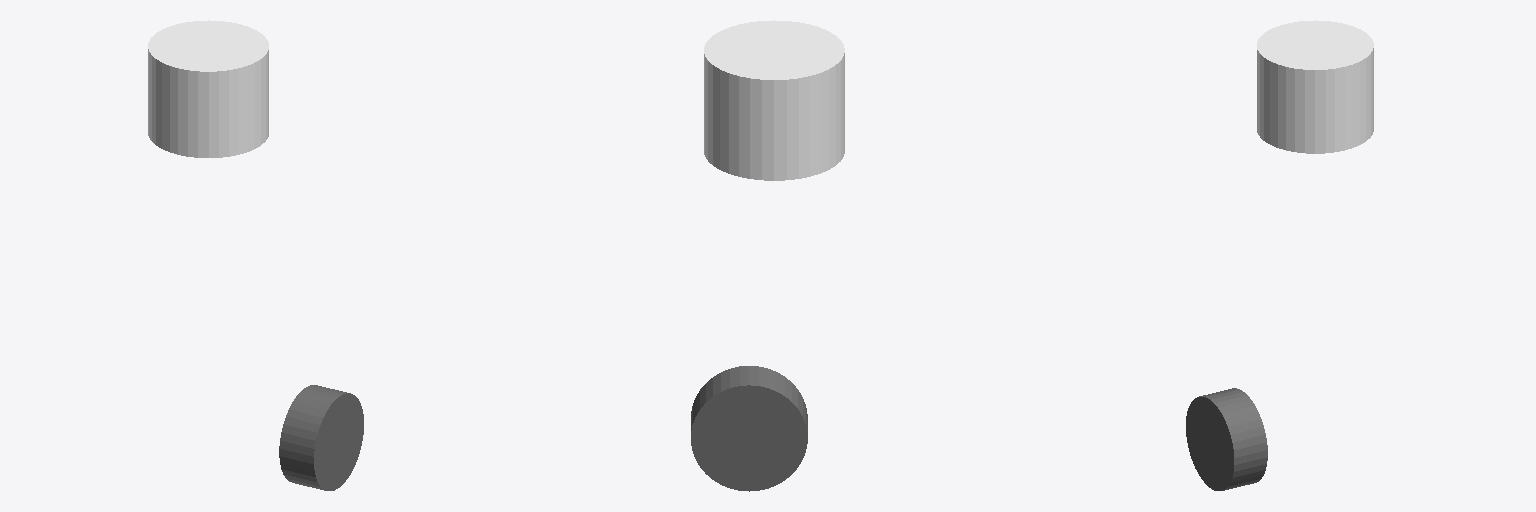
The robot description file, URDF, robot "rover_urdf":
<?xml version="1.0" encoding="utf-8"?>
<!-- This URDF was automatically created by SolidWorks to URDF Exporter! Originally created by [author] ([email redacted]) 
     Commit Version: 1.6.0-4-g7f85cfe  Build Version: 1.6.7995.38578
     For more information, please see http://wiki.ros.org/sw_urdf_exporter -->
<robot
  name="rover_urdf">
  <link
    name="base_link">
    <inertial>
      <origin
        xyz="6.6088E-18 1.9889E-17 0.064591"
        rpy="0 0 0" />
      <mass
        value="1.6" />
      <inertia
        ixx="0.0020085"
        ixy="5.9835E-41"
        ixz="-8.7073E-20"
        iyy="0.0020085"
        iyz="-3.4722E-19"
        izz="0.00086008" />
    </inertial>
    <visual>
      <origin
        xyz="0 0 0"
        rpy="0 0 0" />
      <geometry>
        <mesh
          filename="package://rover_urdf/meshes/base_link.STL" />
      </geometry>
      <material
        name="">
        <color
          rgba="0.99216 0.92941 0.65882 1" />
      </material>
    </visual>
    <collision>
      <origin
        xyz="0 0 0"
        rpy="0 0 0" />
      <geometry>
        <mesh
          filename="package://rover_urdf/meshes/base_link.STL" />
      </geometry>
    </collision>
  </link>
  <link
    name="wheel1_link">
    <inertial>
      <origin
        xyz="0 -0.011525123 -2.74070092627913E-18"
        rpy="0 0 0" />
      <mass
        value="0.0609005806210085" />
      <inertia
        ixx="1.5500790524584E-05"
        ixy="-1.80668468323061E-36"
        ixz="0"
        iyy="2.56086941511341E-05"
        iyz="2.40368287887478E-21"
        izz="1.5500790524584E-05" />
    </inertial>
    <visual>
      <origin
        xyz="0 0 0"
        rpy="0 0 0" />
      <geometry>
        <mesh
          filename="package://rover_urdf/meshes/wheel1_link.STL" />
      </geometry>
      <material
        name="">
        <color
          rgba="0.501960784313725 0.501960784313725 0.501960784313725 1" />
      </material>
    </visual>
    <collision>
      <origin
        xyz="0 0 0"
        rpy="0 0 0" />
      <geometry>
        <mesh
          filename="package://rover_urdf/meshes/wheel1_link.STL" />
      </geometry>
    </collision>
  </link>
  <joint
    name="wheel1_joint"
    type="continuous">
    <origin
      xyz="0.045784 0.079299 0"
      rpy="0 0 2.618" />
    <parent
      link="base_link" />
    <child
      link="wheel1_link" />
    <axis
      xyz="0 1 0" />
    <limit
      effort="0"
      velocity="8.59" />
  </joint>
  <link
    name="wheel2_link">
    <inertial>
      <origin
        xyz="2.25285332678531E-20 -0.011525123 -6.50854012959871E-18"
        rpy="0 0 0" />
      <mass
        value="0.0609005806210085" />
      <inertia
        ixx="1.5500790524584E-05"
        ixy="-1.97582484038569E-23"
        ixz="-1.50463276905253E-36"
        iyy="2.56086941511341E-05"
        iyz="-1.49958921401236E-23"
        izz="1.5500790524584E-05" />
    </inertial>
    <visual>
      <origin
        xyz="0 0 0"
        rpy="0 0 0" />
      <geometry>
        <mesh
          filename="package://rover_urdf/meshes/wheel2_link.STL" />
      </geometry>
      <material
        name="">
        <color
          rgba="0.501960784313725 0.501960784313725 0.501960784313725 1" />
      </material>
    </visual>
    <collision>
      <origin
        xyz="0 0 0"
        rpy="0 0 0" />
      <geometry>
        <mesh
          filename="package://rover_urdf/meshes/wheel2_link.STL" />
      </geometry>
    </collision>
  </link>
  <joint
    name="wheel2_joint"
    type="continuous">
    <origin
      xyz="0.0457835000000003 -0.0792993481483295 0"
      rpy="0 0 0.523598775598303" />
    <parent
      link="base_link" />
    <child
      link="wheel2_link" />
    <axis
      xyz="0 1 0" />
    <limit
      effort="0"
      velocity="8.59" />
  </joint>
  <link
    name="wheel3_link">
    <inertial>
      <origin
        xyz="6.93889390390723E-18 -0.011525123 0"
        rpy="0 0 0" />
      <mass
        value="0.0609005806210086" />
      <inertia
        ixx="1.5500790524584E-05"
        ixy="8.470329472543E-22"
        ixz="-2.25694915357879E-36"
        iyy="2.56086941511341E-05"
        iyz="5.64237288394698E-37"
        izz="1.5500790524584E-05" />
    </inertial>
    <visual>
      <origin
        xyz="0 0 0"
        rpy="0 0 0" />
      <geometry>
        <mesh
          filename="package://rover_urdf/meshes/wheel3_link.STL" />
      </geometry>
      <material
        name="">
        <color
          rgba="0.501960784313725 0.501960784313725 0.501960784313725 1" />
      </material>
    </visual>
    <collision>
      <origin
        xyz="0 0 0"
        rpy="0 0 0" />
      <geometry>
        <mesh
          filename="package://rover_urdf/meshes/wheel3_link.STL" />
      </geometry>
    </collision>
  </link>
  <joint
    name="wheel3_joint"
    type="continuous">
    <origin
      xyz="-0.091567 0 0"
      rpy="0 0 -1.5708" />
    <parent
      link="base_link" />
    <child
      link="wheel3_link" />
    <axis
      xyz="0 1 0" />
    <limit
      effort="0"
      velocity="8.59" />
  </joint>
  <link
    name="US1_link">
    <inertial>
      <origin
        xyz="-0.0127508417951426 0 -2.77555756156289E-17"
        rpy="0 0 0" />
      <mass
        value="0.0451494993409843" />
      <inertia
        ixx="2.48091711391392E-05"
        ixy="8.470329472543E-22"
        ixz="7.8401011020232E-22"
        iyy="2.48800357374561E-05"
        iyz="1.46219795147776E-22"
        izz="4.47170213614222E-06" />
    </inertial>
    <visual>
      <origin
        xyz="0 0 0"
        rpy="0 0 0" />
      <geometry>
        <mesh
          filename="package://rover_urdf/meshes/US1_link.STL" />
      </geometry>
      <material
        name="">
        <color
          rgba="0.407843137254902 0.643137254901961 1 1" />
      </material>
    </visual>
    <collision>
      <origin
        xyz="0 0 0"
        rpy="0 0 0" />
      <geometry>
        <mesh
          filename="package://rover_urdf/meshes/US1_link.STL" />
      </geometry>
    </collision>
  </link>
  <joint
    name="US1_joint"
    type="fixed">
    <origin
      xyz="0.087637 -6.35E-05 0.14173"
      rpy="0 0 0" />
    <parent
      link="base_link" />
    <child
      link="US1_link" />
    <axis
      xyz="0 0 0" />
  </joint>
  <link
    name="US2_link">
    <inertial>
      <origin
        xyz="-0.0127508417951426 -6.93889390390723E-18 0"
        rpy="0 0 0" />
      <mass
        value="0.0451494993409843" />
      <inertia
        ixx="2.48091711391392E-05"
        ixy="1.6940658945086E-21"
        ixz="1.8782446900855E-21"
        iyy="2.48800357374561E-05"
        iyz="-1.86150715495822E-21"
        izz="4.47170213614222E-06" />
    </inertial>
    <visual>
      <origin
        xyz="0 0 0"
        rpy="0 0 0" />
      <geometry>
        <mesh
          filename="package://rover_urdf/meshes/US2_link.STL" />
      </geometry>
      <material
        name="">
        <color
          rgba="0.407843137254902 0.643137254901961 1 1" />
      </material>
    </visual>
    <collision>
      <origin
        xyz="0 0 0"
        rpy="0 0 0" />
      <geometry>
        <mesh
          filename="package://rover_urdf/meshes/US2_link.STL" />
      </geometry>
    </collision>
  </link>
  <joint
    name="US2_joint"
    type="fixed">
    <origin
      xyz="0 -0.087637 0.14173"
      rpy="0 0 -1.5708" />
    <parent
      link="base_link" />
    <child
      link="US2_link" />
    <axis
      xyz="0 0 0" />
  </joint>
  <link
    name="US3_link">
    <inertial>
      <origin
        xyz="-0.0127508417951426 -1.38777878078145E-17 0"
        rpy="0 0 0" />
      <mass
        value="0.0451494993409843" />
      <inertia
        ixx="2.48091711391392E-05"
        ixy="1.6940658945086E-21"
        ixz="1.50762263335161E-21"
        iyy="2.48800357374561E-05"
        iyz="7.36266084672667E-23"
        izz="4.47170213614221E-06" />
    </inertial>
    <visual>
      <origin
        xyz="0 0 0"
        rpy="0 0 0" />
      <geometry>
        <mesh
          filename="package://rover_urdf/meshes/US3_link.STL" />
      </geometry>
      <material
        name="">
        <color
          rgba="0.407843137254902 0.643137254901961 1 1" />
      </material>
    </visual>
    <collision>
      <origin
        xyz="0 0 0"
        rpy="0 0 0" />
      <geometry>
        <mesh
          filename="package://rover_urdf/meshes/US3_link.STL" />
      </geometry>
    </collision>
  </link>
  <joint
    name="US3_joint"
    type="fixed">
    <origin
      xyz="-0.087637 -6.35E-05 0.14173"
      rpy="0 0 -3.1416" />
    <parent
      link="base_link" />
    <child
      link="US3_link" />
    <axis
      xyz="0 0 0" />
  </joint>
  <link
    name="US4_link">
    <inertial>
      <origin
        xyz="-0.0127508417951426 6.93889390390723E-18 2.77555756156289E-17"
        rpy="0 0 0" />
      <mass
        value="0.0451494993409843" />
      <inertia
        ixx="2.48091711391393E-05"
        ixy="-8.470329472543E-22"
        ixz="-1.73363921194744E-22"
        iyy="2.48800357374561E-05"
        iyz="1.47130202774136E-21"
        izz="4.47170213614223E-06" />
    </inertial>
    <visual>
      <origin
        xyz="0 0 0"
        rpy="0 0 0" />
      <geometry>
        <mesh
          filename="package://rover_urdf/meshes/US4_link.STL" />
      </geometry>
      <material
        name="">
        <color
          rgba="0.407843137254902 0.643137254901961 1 1" />
      </material>
    </visual>
    <collision>
      <origin
        xyz="0 0 0"
        rpy="0 0 0" />
      <geometry>
        <mesh
          filename="package://rover_urdf/meshes/US4_link.STL" />
      </geometry>
    </collision>
  </link>
  <joint
    name="US4_joint"
    type="fixed">
    <origin
      xyz="0 0.087637 0.14173"
      rpy="0 0 1.5708" />
    <parent
      link="base_link" />
    <child
      link="US4_link" />
    <axis
      xyz="0 0 0" />
  </joint>
  <link
    name="lidar_link">
    <inertial>
      <origin
        xyz="0 0 0"
        rpy="0 0 0" />
      <mass
        value="0.2" />
      <inertia
        ixx="0"
        ixy="0"
        ixz="0"
        iyy="0"
        iyz="0"
        izz="0" />
    </inertial>
    <visual>
      <origin
        xyz="0 0 0"
        rpy="0 0 0" />
      <geometry>
        <mesh
          filename="package://rover_urdf/meshes/lidar_link.STL" />
      </geometry>
      <material
        name="">
        <color
          rgba="1 1 1 1" />
      </material>
    </visual>
    <collision>
      <origin
        xyz="0 0 0"
        rpy="0 0 0" />
      <geometry>
        <mesh
          filename="package://rover_urdf/meshes/lidar_link.STL" />
      </geometry>
    </collision>
  </link>
  <joint
    name="lidar_joint"
    type="continuous">
    <origin
      xyz="0.00674979600000013 -0.036576 0.238388"
      rpy="0 0 0" />
    <parent
      link="base_link" />
    <child
      link="lidar_link" />
    <axis
      xyz="0 0 1" />
    <limit
      effort="0"
      velocity="42" />
  </joint>
</robot>

--- Render facts (derived) ---
3 views of the same robot in one strip: view 1: azimuth 30°, elevation 25°; view 2: azimuth 150°, elevation 25°; view 3: azimuth 270°, elevation 25° (orthographic).
Robot: rover_urdf — 9 links, 8 joints (4 continuous, 4 fixed); root link base_link; default pose: all joints at 0.
Links seen in each view (by area): view 1: lidar_link, wheel2_link; view 2: lidar_link, wheel2_link; view 3: lidar_link, wheel2_link.
Link boxes in pixels (left/top/right/bottom): lidar_link: left=148, top=20, right=268, bottom=157; wheel2_link: left=279, top=385, right=363, bottom=490; lidar_link: left=704, top=20, right=844, bottom=180; wheel2_link: left=691, top=366, right=807, bottom=491; lidar_link: left=1257, top=20, right=1373, bottom=153; wheel2_link: left=1186, top=388, right=1267, bottom=490.
Size in the robot's own frame: 0.1106 by 0.1121 by 0.2674 metres.
2 mesh visuals loaded from 9 distinct referenced files (2 binary STL); not drawn: 7 (reference not matched to a file when rendering).